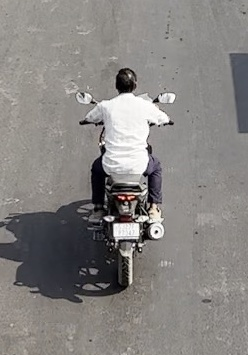BikeWithRider: (73, 65, 177, 289)
NoHelmet: (114, 67, 138, 98)
